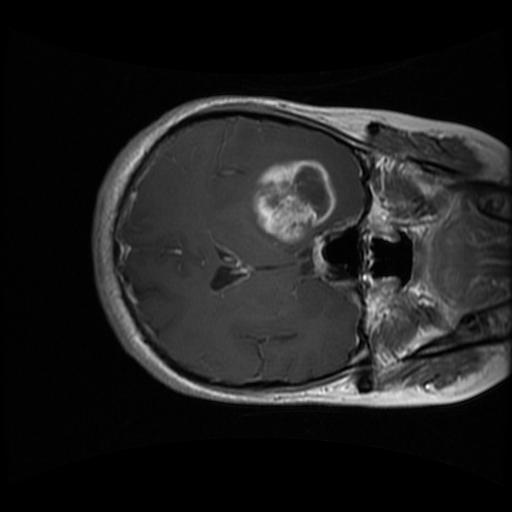glioma: (243, 158, 339, 254)
